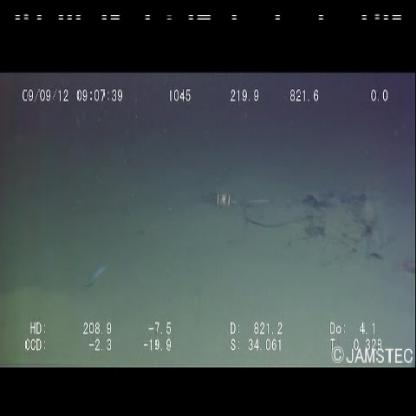Rác: (196, 180, 245, 218)
